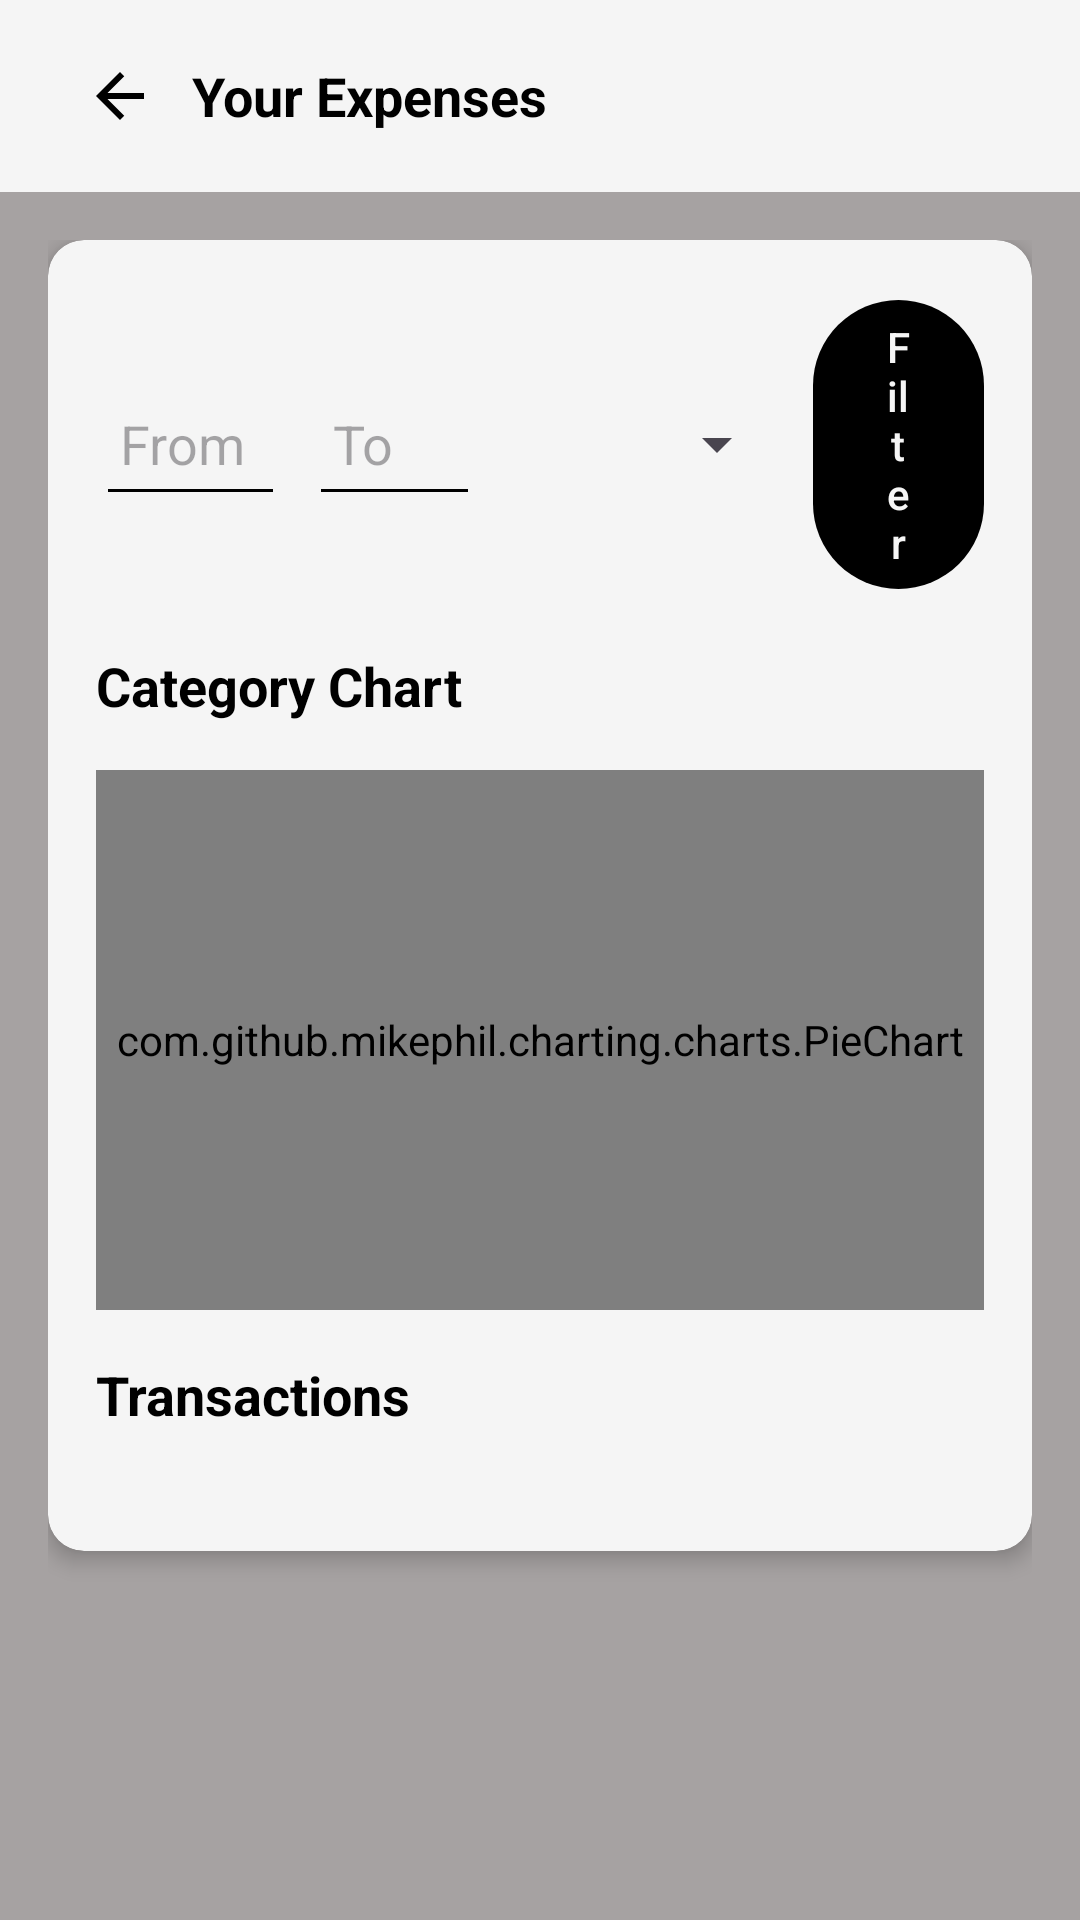

Named icons in this screenshot (1080px x 1920px) and their bounding boxes, (x1, y1, x2, y2):
Back button: (96, 72, 144, 120)
